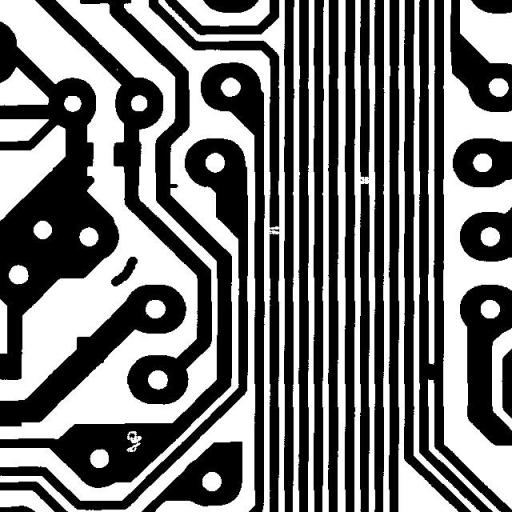copper: (103, 248, 145, 294)
open: (258, 218, 289, 242), (351, 169, 377, 191)
pin-hole: (118, 423, 149, 459), (26, 213, 59, 246)
short: (417, 354, 444, 388)
spur: (71, 168, 102, 198), (158, 176, 186, 195)
